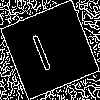I: (25, 25, 55, 73)
